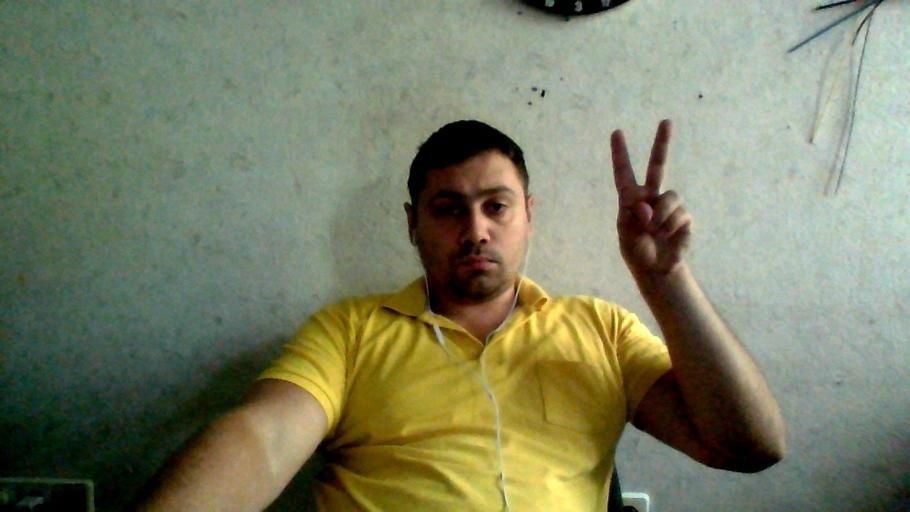peace: (605, 116, 695, 280)
